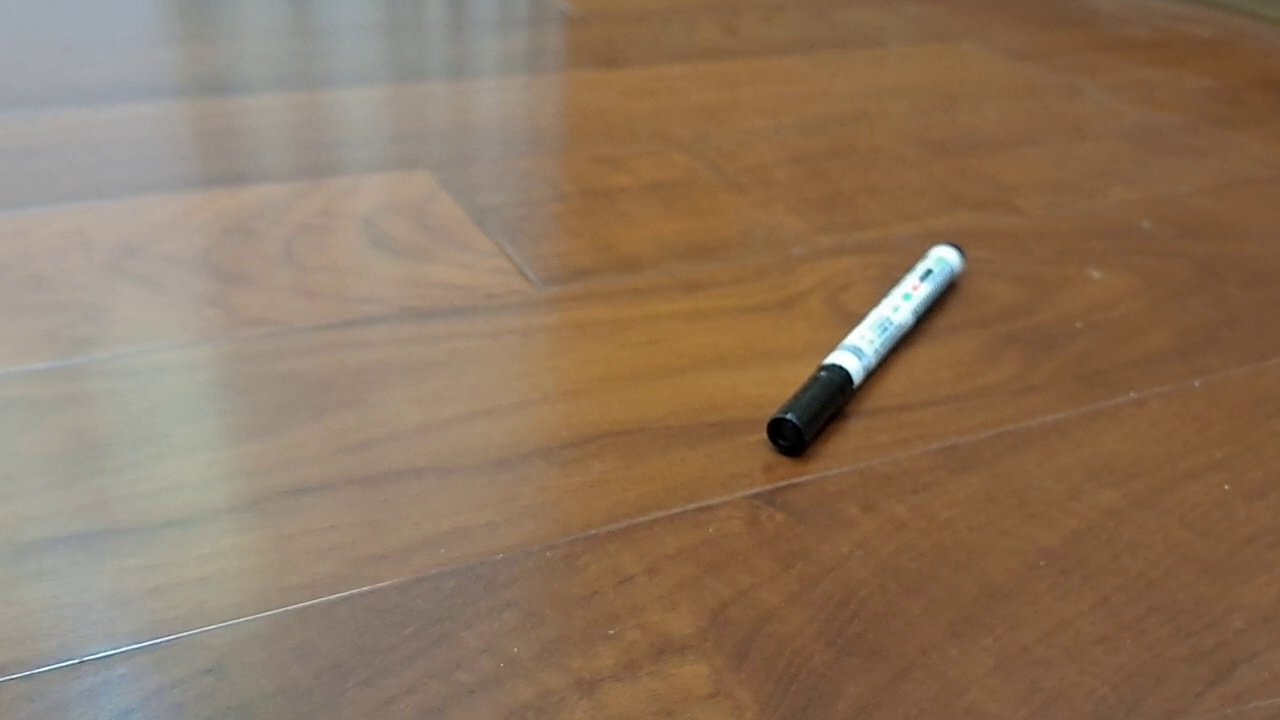pen: (765, 242, 965, 458)
